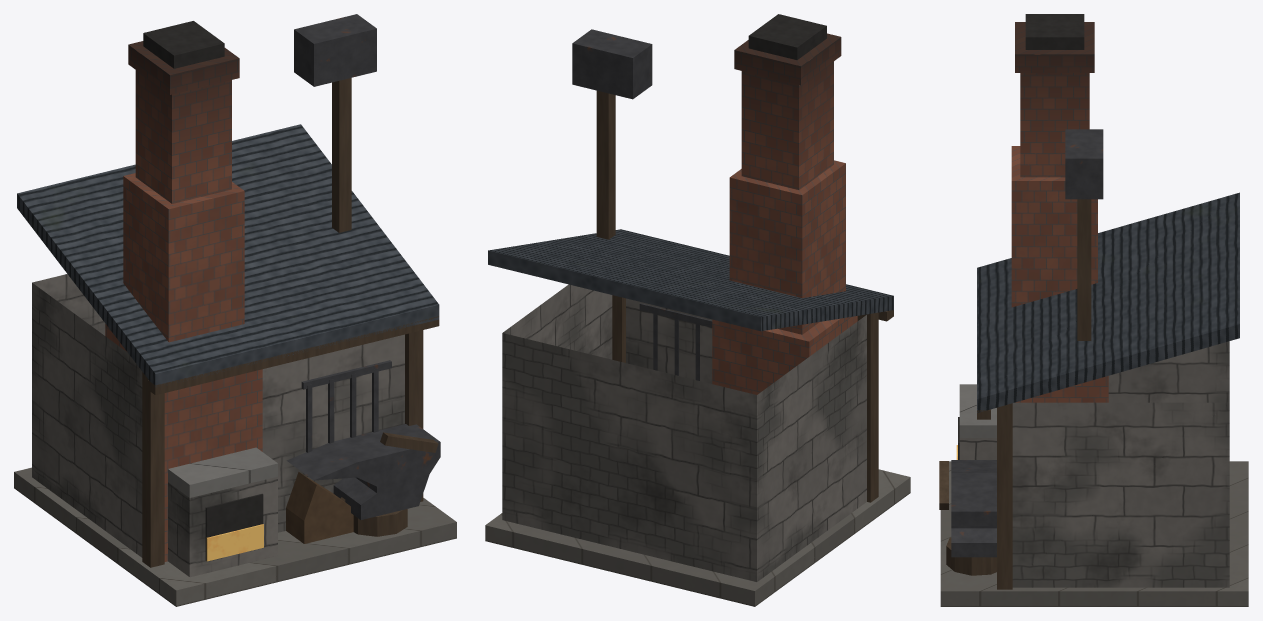
The model's file is 상점_유닛강화소.fbx.
3 views of the same model, side by side, from view 1: azimuth 30°, elevation 25°; view 2: azimuth 150°, elevation 25°; view 3: azimuth 270°, elevation 25° (orthographic). The views are drawn at different scales.
Visible parts, largest first — view 1: 상점_유닛강화소; view 2: 상점_유닛강화소; view 3: 상점_유닛강화소.
Part boxes in pixels (x1,y1,x2,y2): 상점_유닛강화소: (14,14,456,606); 상점_유닛강화소: (485,14,910,606); 상점_유닛강화소: (939,14,1248,606).
Size of the model in its own units: 900 by 1540 by 894.
9 materials, 9 textured.
